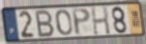2: (18, 10, 37, 40)
8: (111, 6, 128, 35)
B: (35, 9, 56, 39)
H: (90, 6, 112, 36)
O: (55, 8, 74, 37)
P: (71, 7, 92, 37)
